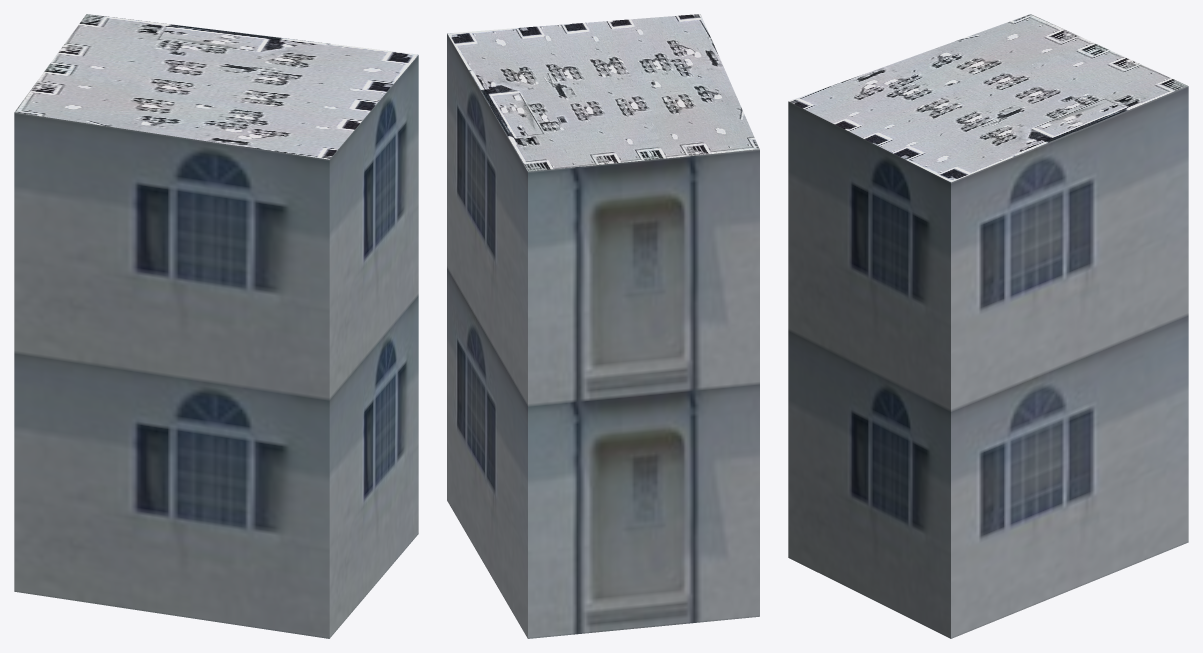
The model's file is ResTex__1515.fbx.
3 views of the same model, side by side, from view 1: azimuth 30°, elevation 25°; view 2: azimuth 150°, elevation 25°; view 3: azimuth 270°, elevation 25° (orthographic). The views are drawn at different scales.
Visible parts, largest first — view 1: CityEngineMaterial_17_m, CityEngineMaterial_4_m; view 2: CityEngineMaterial_17_m, CityEngineMaterial_4_m; view 3: CityEngineMaterial_17_m, CityEngineMaterial_4_m.
Part boxes in pixels (x1,y1,x2,y2): CityEngineMaterial_17_m: [14, 55, 418, 638]; CityEngineMaterial_4_m: [14, 14, 418, 159]; CityEngineMaterial_17_m: [447, 33, 759, 638]; CityEngineMaterial_4_m: [447, 14, 759, 171]; CityEngineMaterial_17_m: [788, 86, 1188, 638]; CityEngineMaterial_4_m: [789, 14, 1187, 182].
Size of the model in its own units: 4.75 by 6 by 4.77.
2 materials, 2 textured.
